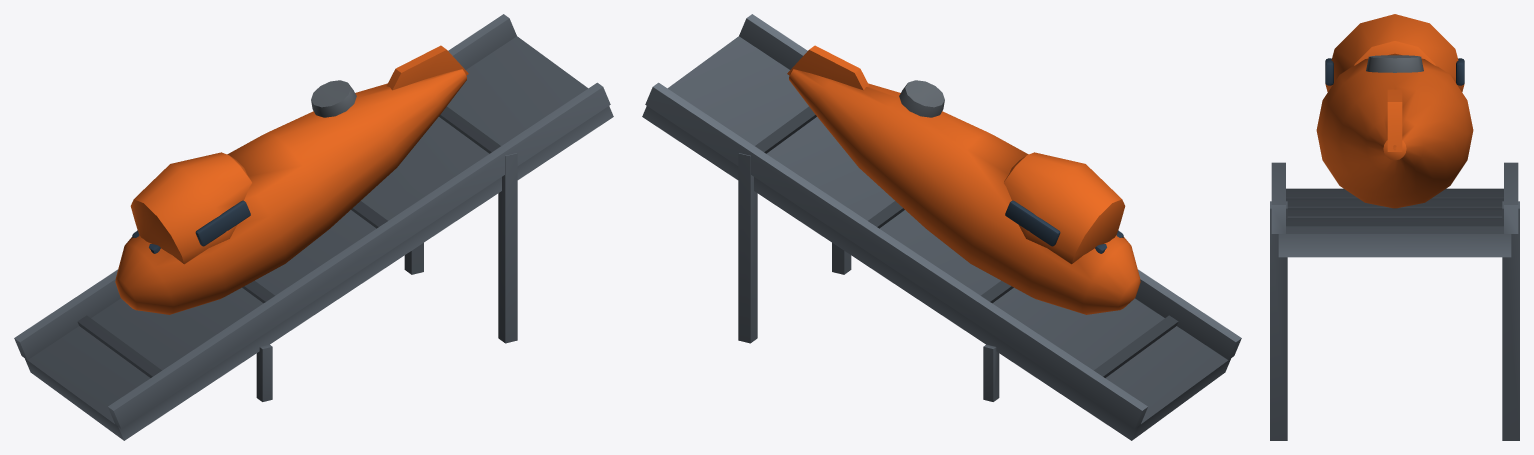
Rendered from lifeboat-freefall.glb.
3 views of the same model, side by side, from view 1: azimuth 30°, elevation 25°; view 2: azimuth 150°, elevation 25°; view 3: azimuth 270°, elevation 25° (orthographic). The views are drawn at different scales.
Visible parts, largest first — view 1: freefallRamp, freefallBoat, containerSteel, bridgeWindows; view 2: freefallRamp, freefallBoat, containerSteel, bridgeWindows; view 3: freefallRamp, freefallBoat, containerSteel, bridgeWindows.
Part boxes in pixels (x1,y1,x2,y2): freefallRamp: (14, 14, 613, 440); freefallBoat: (115, 45, 468, 314); containerSteel: (311, 80, 356, 117); bridgeWindows: (132, 200, 250, 253); freefallRamp: (642, 14, 1241, 440); freefallBoat: (787, 45, 1140, 314); containerSteel: (899, 80, 944, 117); bridgeWindows: (1005, 200, 1123, 253); freefallRamp: (1270, 162, 1519, 440); freefallBoat: (1316, 14, 1473, 208); containerSteel: (1366, 55, 1423, 72); bridgeWindows: (1325, 58, 1464, 85).
Bounding box in the file's own units: 2.48 × 1.27 × 0.86.
